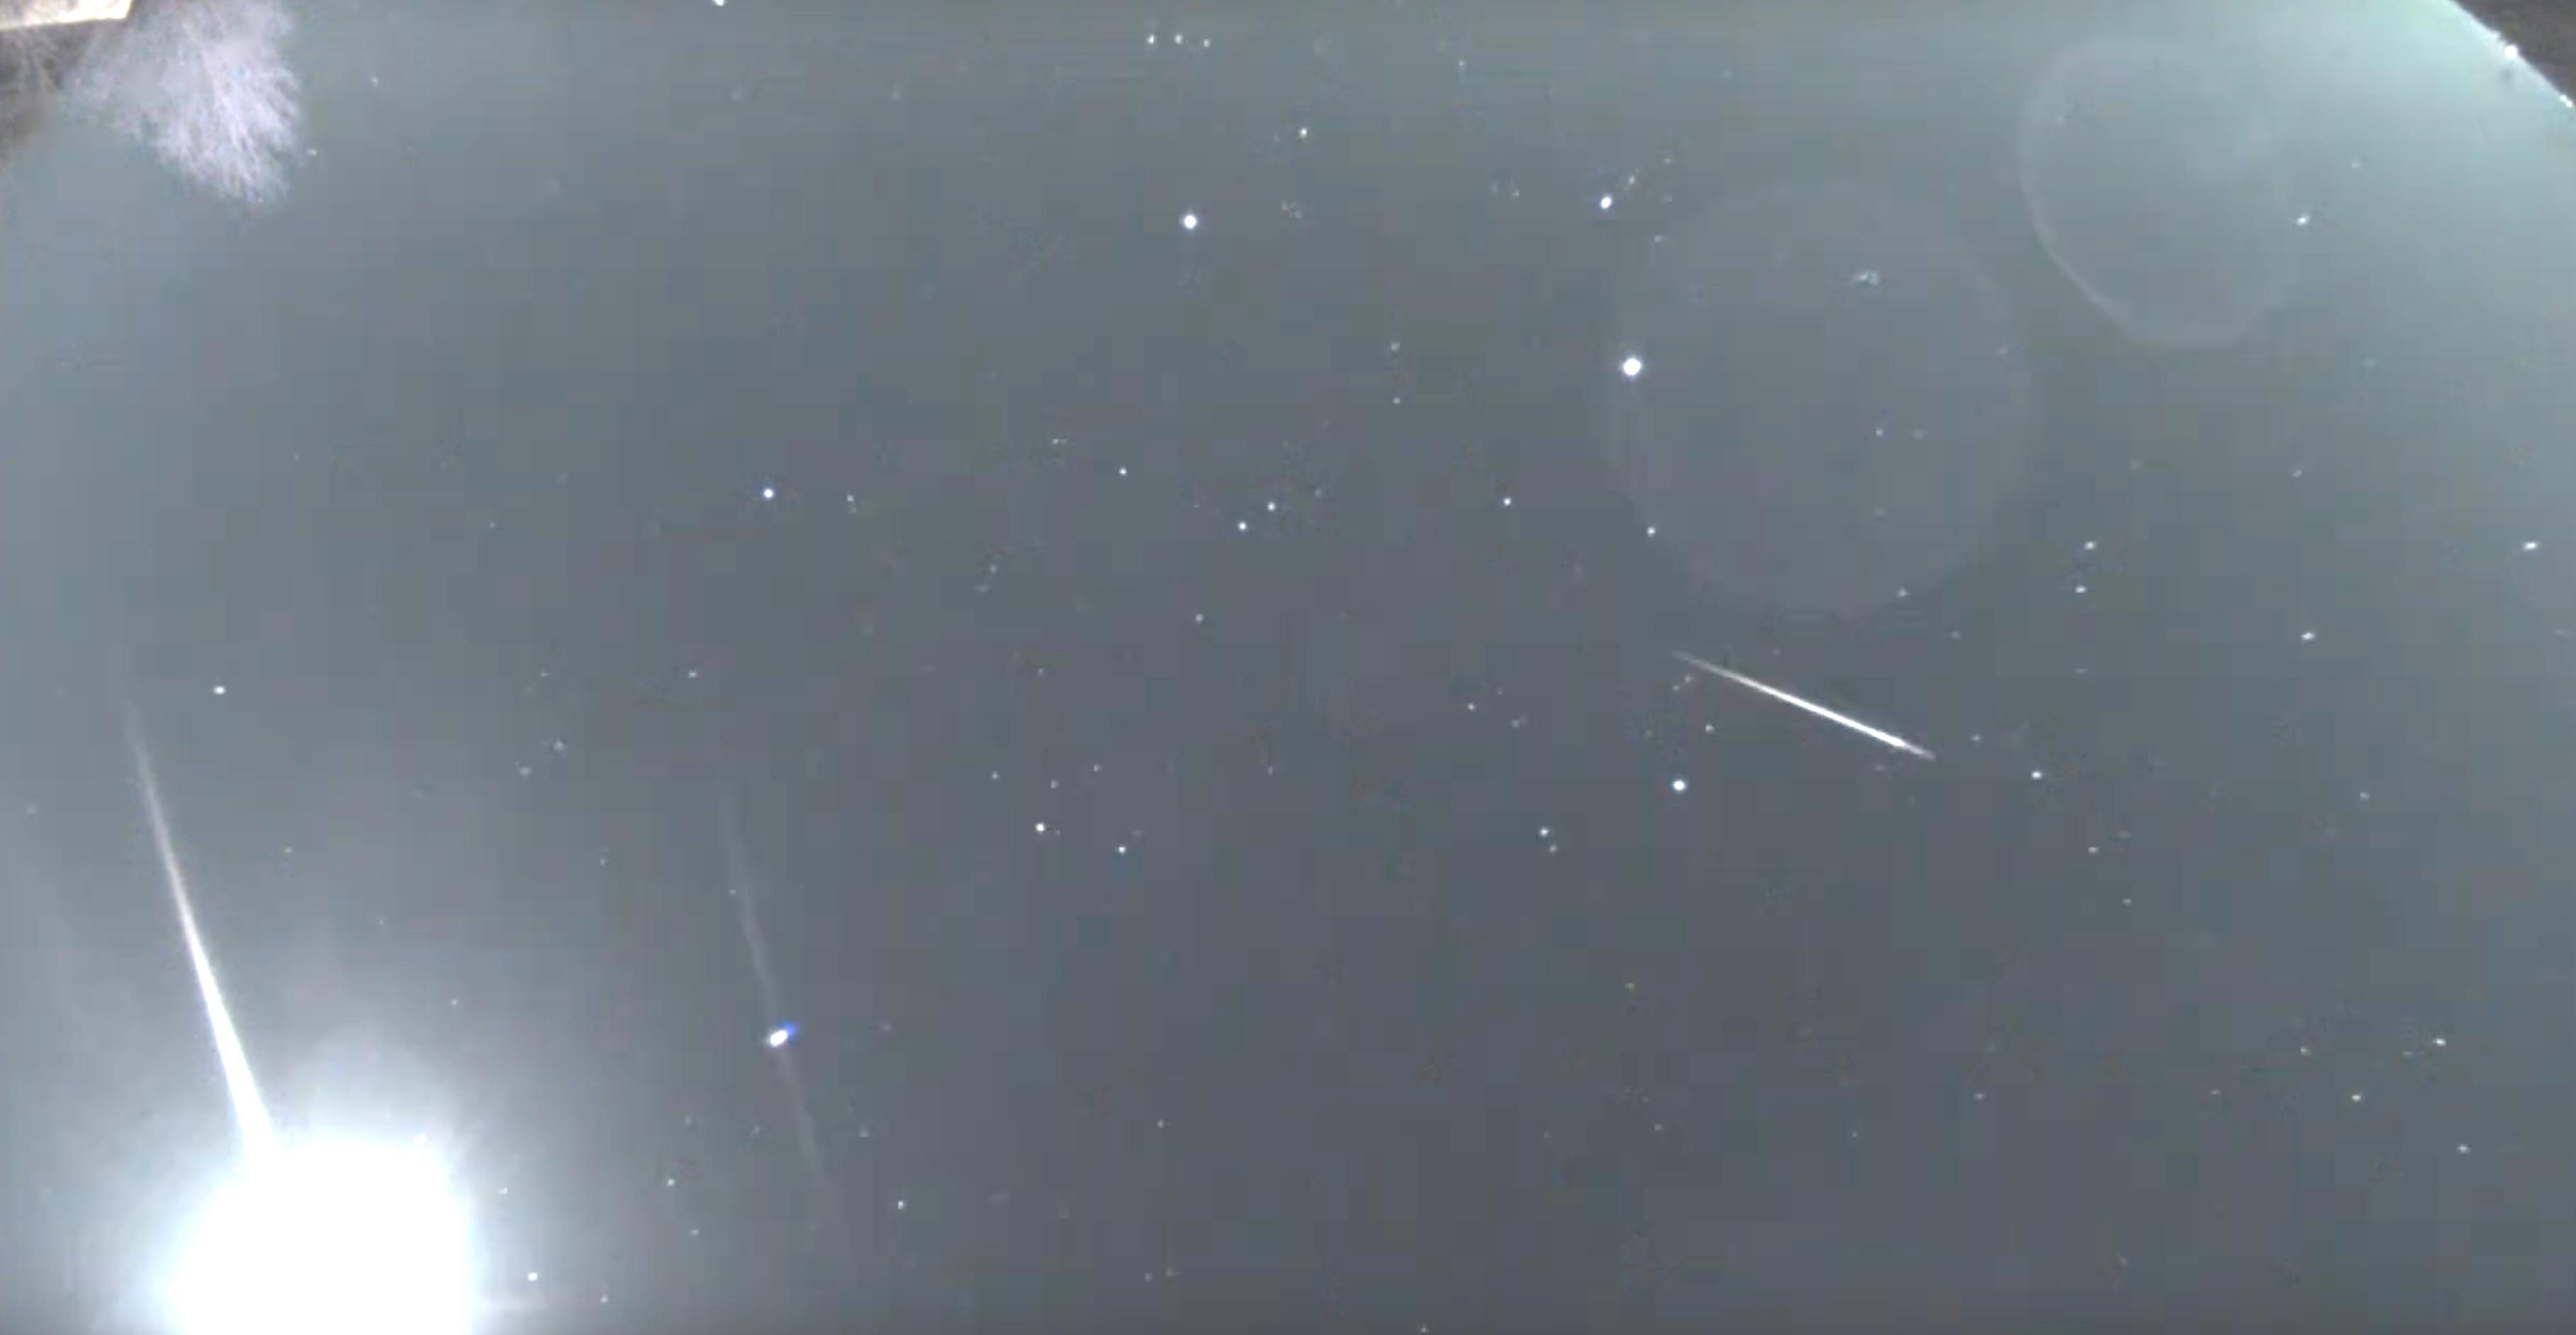meteorite: (1659, 637, 1996, 790)
